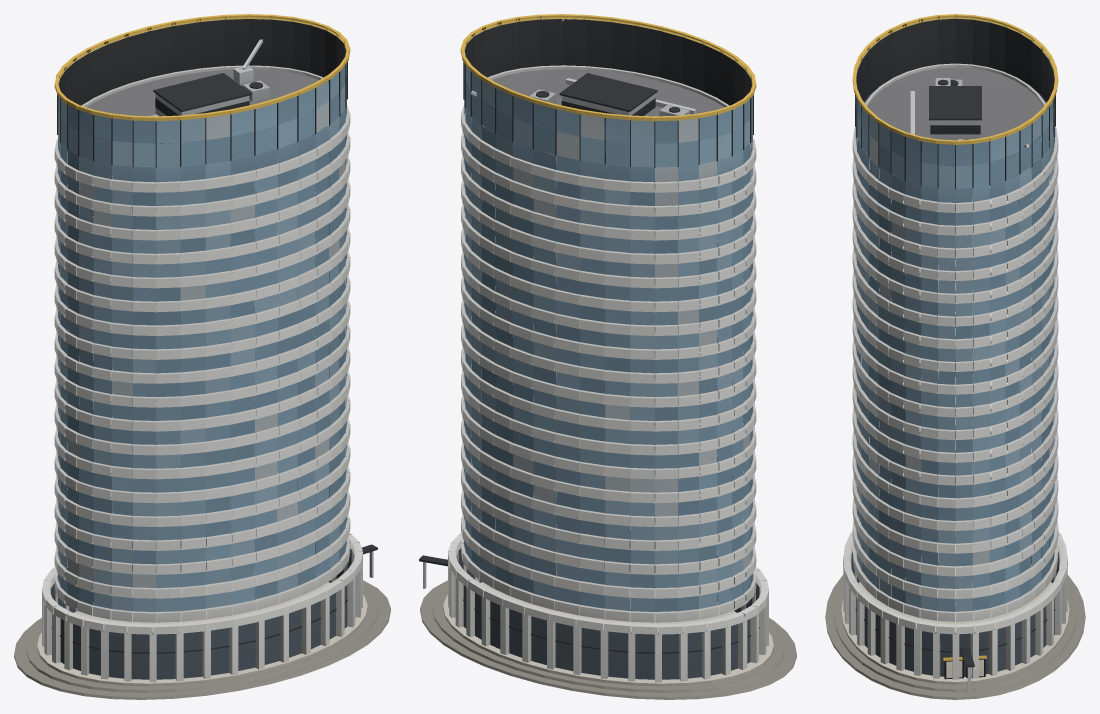
3 views of the same model, side by side, from view 1: azimuth 30°, elevation 25°; view 2: azimuth 150°, elevation 25°; view 3: azimuth 270°, elevation 25° (orthographic). The views are drawn at different scales.
Visible parts, largest first — view 1: t1; view 2: t1; view 3: t1.
Boxes of the visible parts, x1=… form: t1: x1=14, y1=14, x2=390, y2=699; t1: x1=419, y1=14, x2=796, y2=699; t1: x1=825, y1=14, x2=1085, y2=699.
Bounding box in the file's own units: 60.88 × 92.8 × 40.47.
